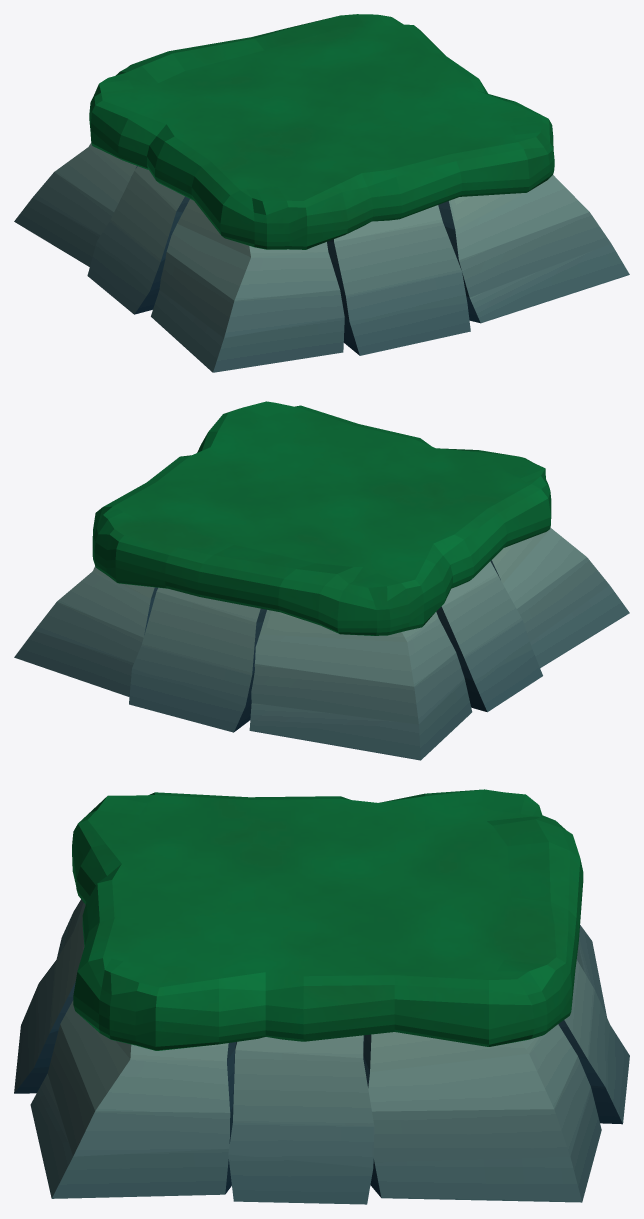
The model's file is fbx-grass-top-small.fbx.
3 renders of one model, top to bottom at view 1: azimuth 30°, elevation 25°; view 2: azimuth 150°, elevation 25°; view 3: azimuth 270°, elevation 25°, orthographic. The views are drawn at different scales.
Parts seen in each view (by area): view 1: mesh-top-grass, mesh-rocks; view 2: mesh-top-grass, mesh-rocks; view 3: mesh-top-grass, mesh-rocks.
Part boxes in pixels (<box>): mesh-top-grass: <box>89,14,554,249</box>; mesh-rocks: <box>14,143,629,372</box>; mesh-top-grass: <box>92,401,551,635</box>; mesh-rocks: <box>14,527,629,760</box>; mesh-top-grass: <box>72,789,583,1050</box>; mesh-rocks: <box>14,899,629,1204</box>.
Size of the model in its own units: 383 by 131 by 376.
